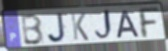A: (116, 10, 141, 40)
B: (21, 13, 45, 46)
F: (136, 7, 162, 40)
J: (93, 8, 115, 43), (46, 12, 68, 45)
K: (69, 12, 90, 42)
